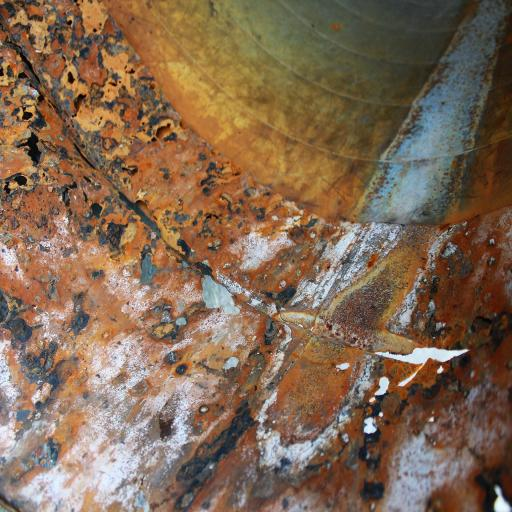segmentation: (0, 0, 512, 512), (131, 0, 512, 224), (0, 0, 190, 191), (0, 58, 99, 251), (383, 208, 512, 348), (74, 187, 132, 224)
